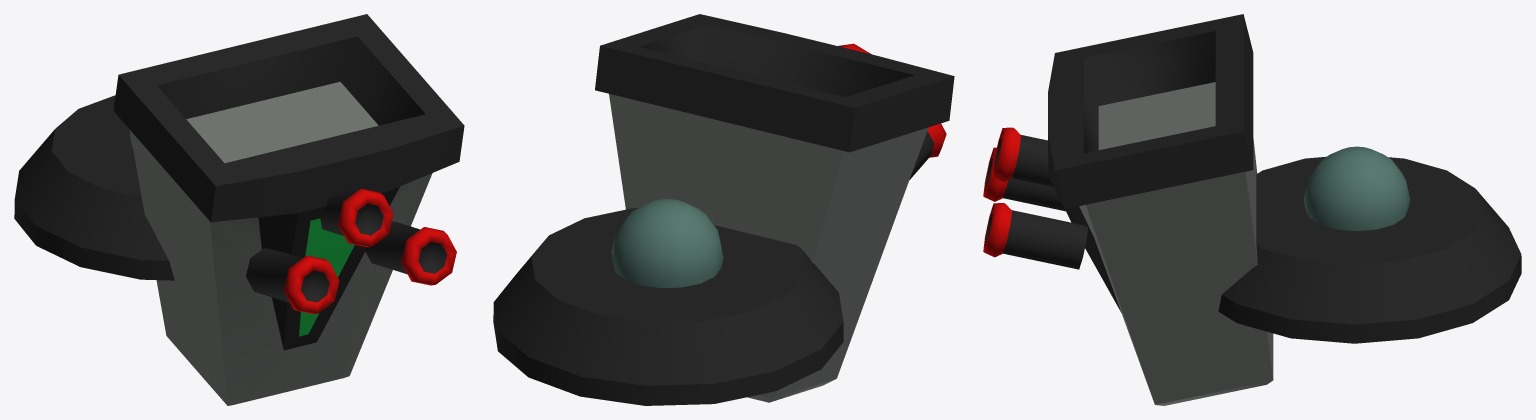
File: MilitaryRocketLauncher.fbx
The picture shows the model from 3 angles, left to right: view 1: azimuth 30°, elevation 25°; view 2: azimuth 150°, elevation 25°; view 3: azimuth 270°, elevation 25°; orthographic projection. The views are drawn at different scales.
Parts seen in each view (by area): view 1: Body, Base, Barrel1, Barrel3, Barrel2; view 2: Body, Base, RotorY, Barrel1; view 3: Body, Base, RotorY, Barrel3, Barrel2, Barrel1.
Part boxes in pixels (bbox=[...]): Body: bbox=[113, 14, 464, 405]; Base: bbox=[14, 95, 174, 280]; Barrel1: bbox=[246, 248, 339, 314]; Barrel3: bbox=[365, 221, 456, 285]; Barrel2: bbox=[320, 188, 393, 247]; Body: bbox=[595, 14, 954, 402]; Base: bbox=[493, 208, 843, 405]; RotorY: bbox=[611, 199, 723, 288]; Barrel1: bbox=[909, 123, 946, 179]; Body: bbox=[1048, 14, 1273, 405]; Base: bbox=[1218, 157, 1521, 343]; RotorY: bbox=[1303, 146, 1410, 231]; Barrel3: bbox=[983, 203, 1088, 269]; Barrel2: bbox=[992, 127, 1053, 186]; Barrel1: bbox=[983, 147, 1065, 211].
Bounding box in the file's own units: 1.29 × 1.31 × 2.07.
